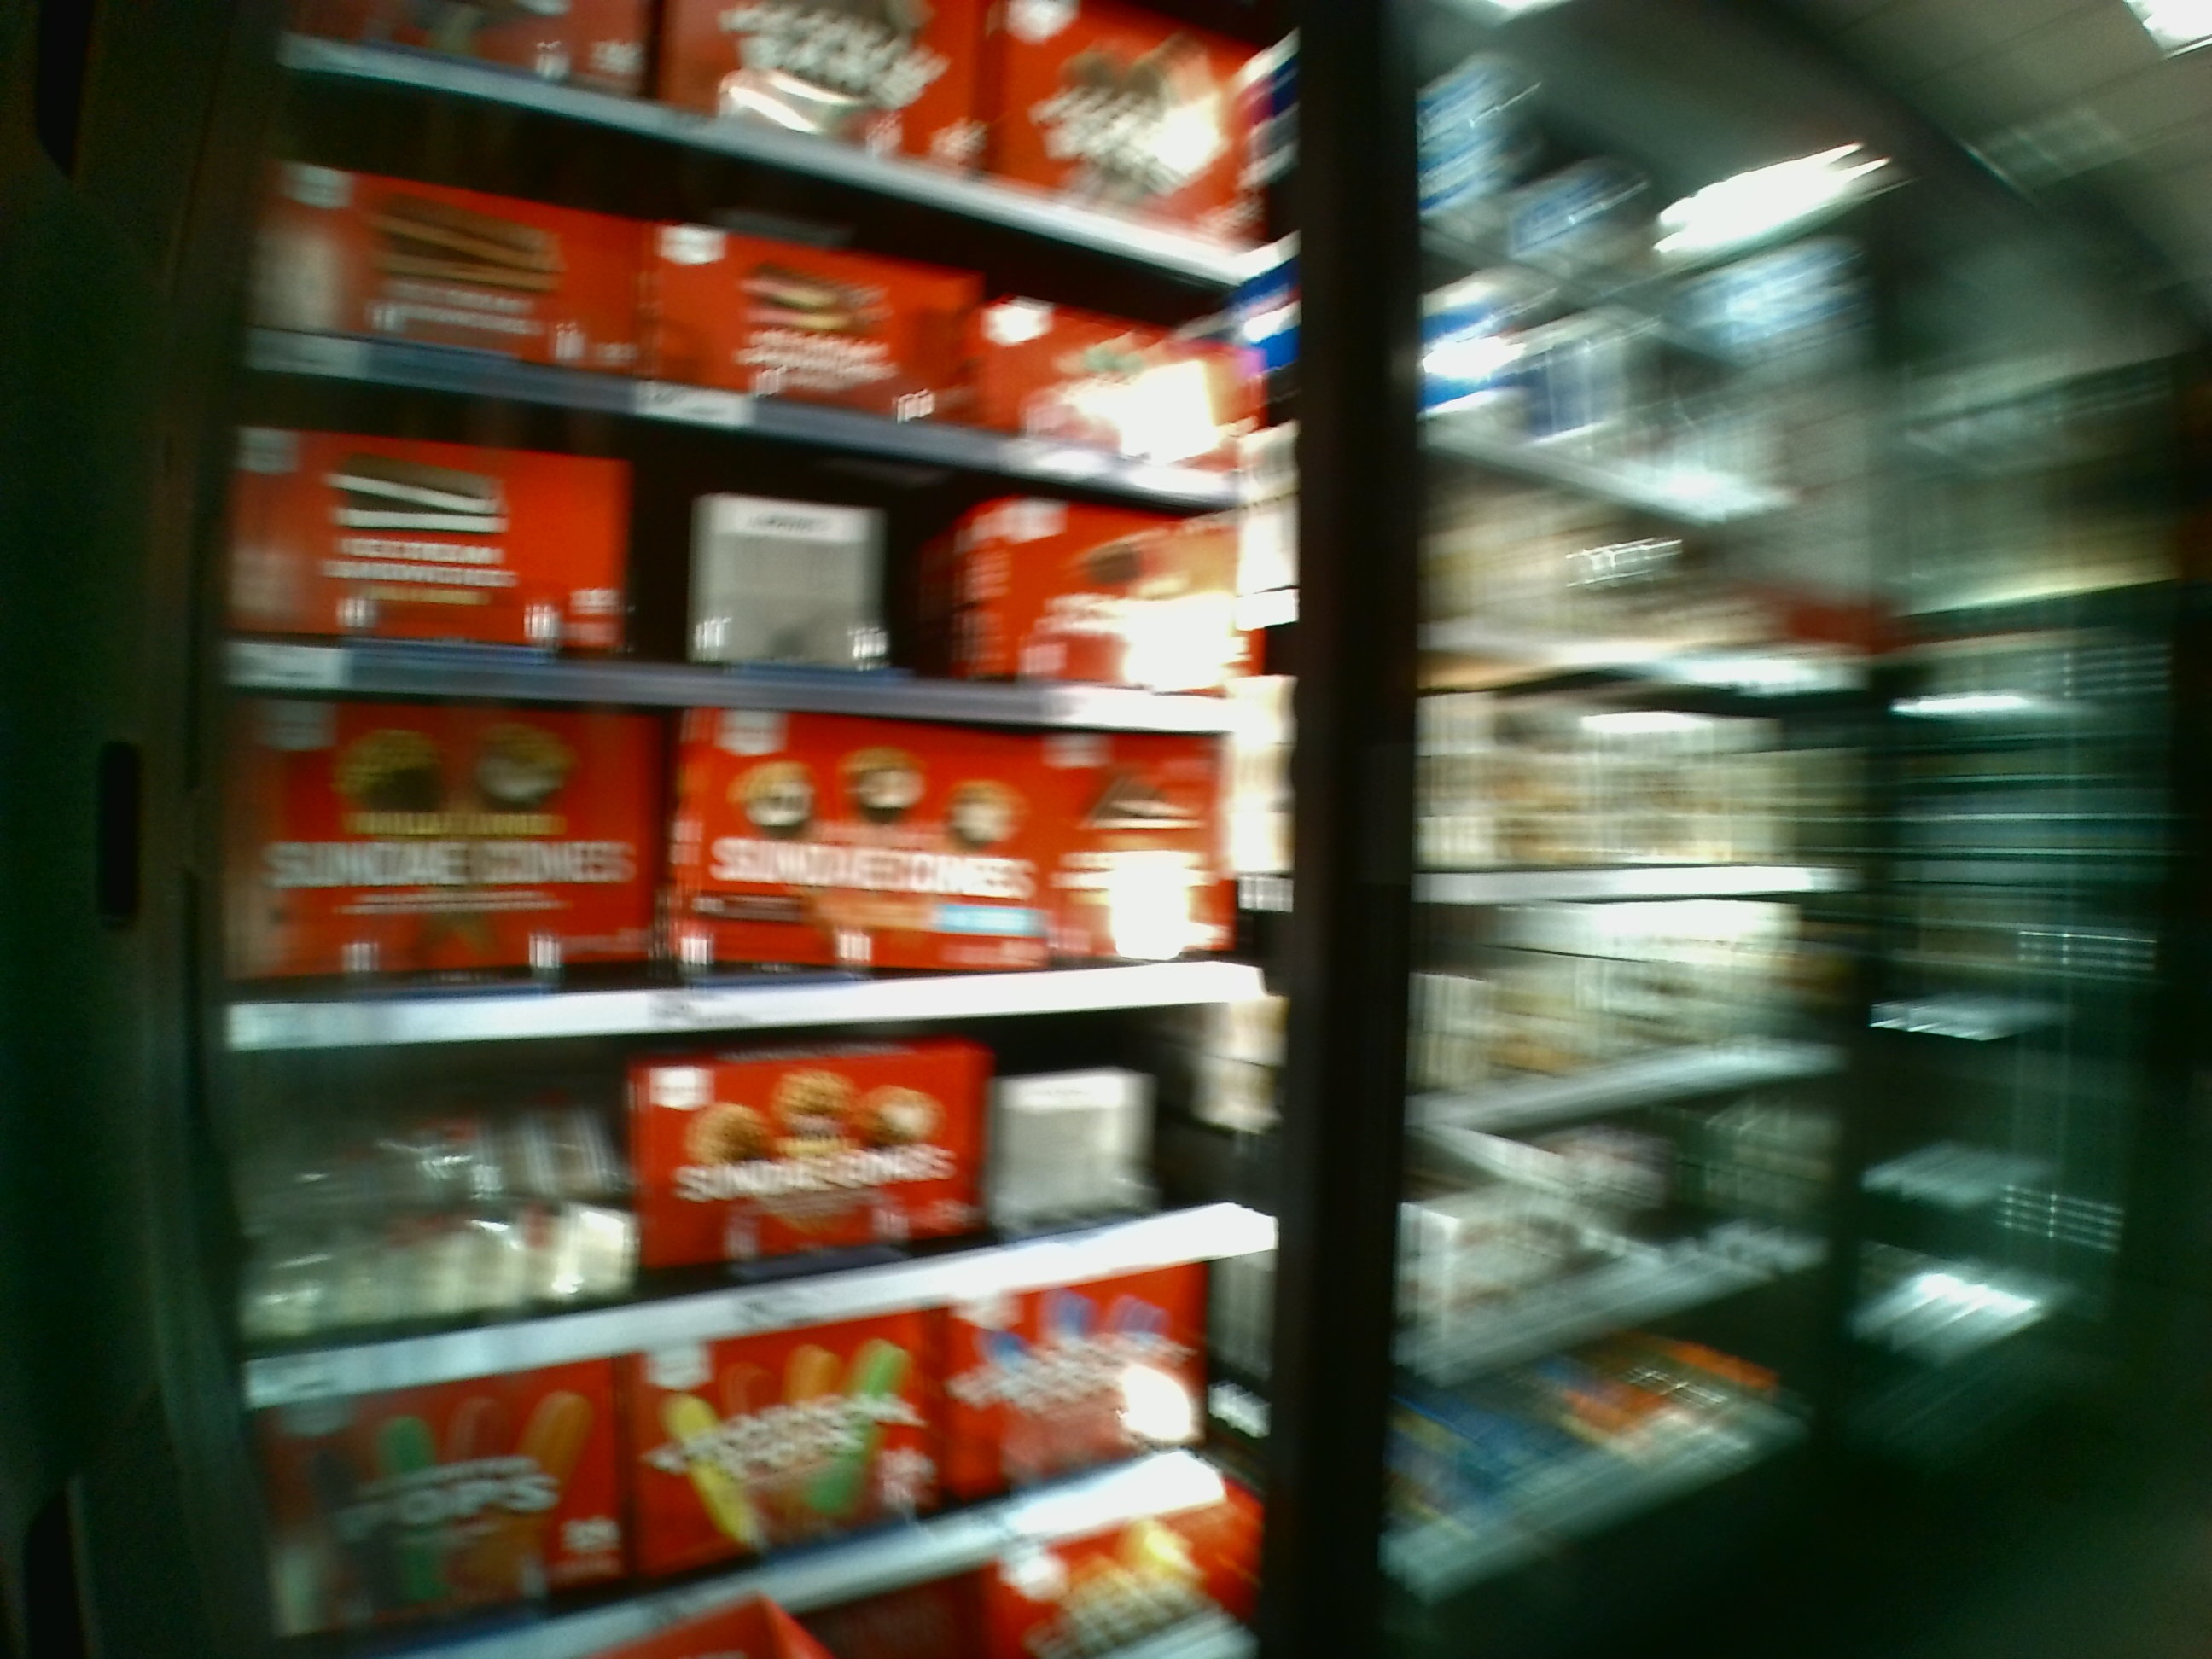shelf: (209, 701, 1258, 1014), (223, 458, 1284, 721), (232, 1049, 1285, 1312)
